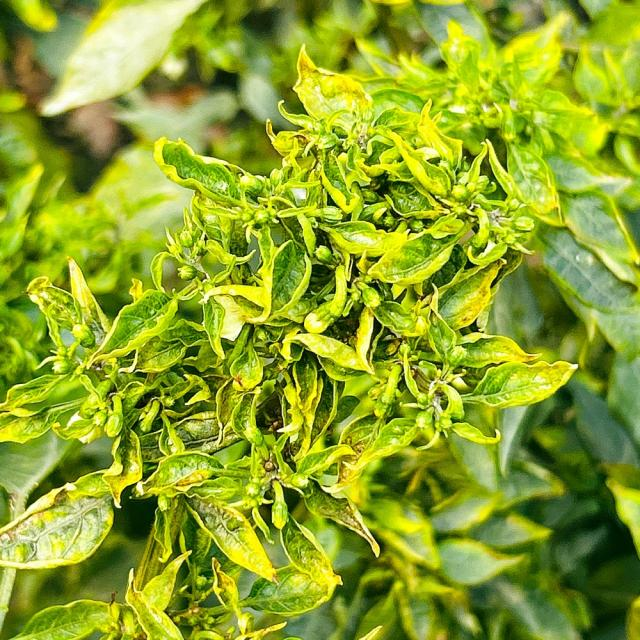Chilli_Leaf_Curl: (2, 38, 580, 638), (0, 476, 115, 570)
